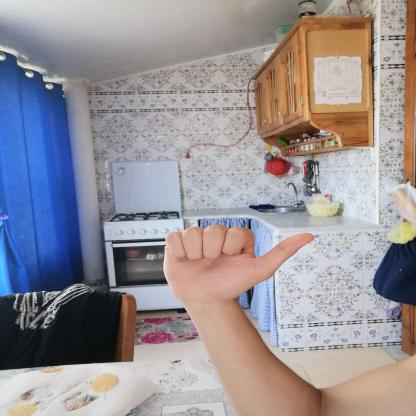DAD: (153, 221, 322, 308)
